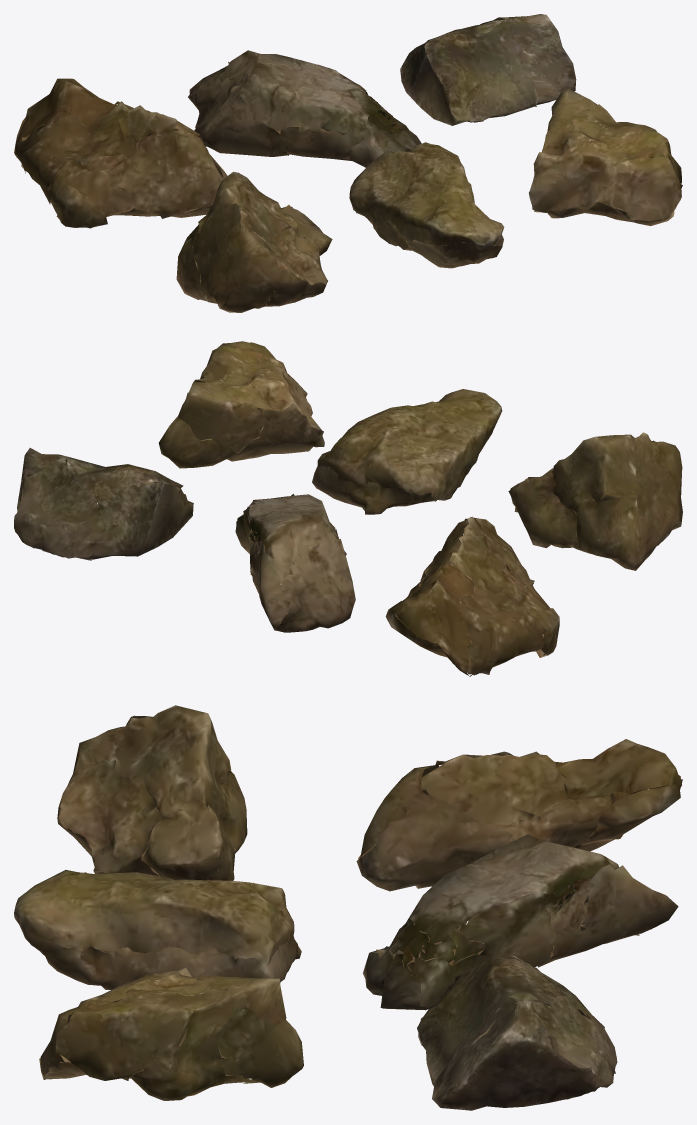
File: rock_moss_set_01.glb
3 views of the same model, one above another, from view 1: azimuth 30°, elevation 25°; view 2: azimuth 150°, elevation 25°; view 3: azimuth 270°, elevation 25° (orthographic). The views are drawn at different scales.
Visible parts, largest first — view 1: rock_moss_set_01_rock01, rock_moss_set_01_rock02, rock_moss_set_01_rock06, rock_moss_set_01_rock04, rock_moss_set_01_rock03, rock_moss_set_01_rock05; view 2: rock_moss_set_01_rock04, rock_moss_set_01_rock01, rock_moss_set_01_rock05, rock_moss_set_01_rock03, rock_moss_set_01_rock06, rock_moss_set_01_rock02; view 3: rock_moss_set_01_rock01, rock_moss_set_01_rock02, rock_moss_set_01_rock05, rock_moss_set_01_rock04, rock_moss_set_01_rock06, rock_moss_set_01_rock03.
Part boxes in pixels (x1,y1,x2,y2): rock_moss_set_01_rock01: (14, 78, 227, 228); rock_moss_set_01_rock02: (188, 50, 421, 167); rock_moss_set_01_rock06: (529, 88, 682, 225); rock_moss_set_01_rock04: (176, 171, 332, 312); rock_moss_set_01_rock03: (400, 14, 576, 125); rock_moss_set_01_rock05: (349, 142, 504, 268); rock_moss_set_01_rock04: (508, 432, 682, 570); rock_moss_set_01_rock01: (385, 516, 559, 676); rock_moss_set_01_rock05: (312, 389, 502, 514); rock_moss_set_01_rock03: (14, 448, 193, 560); rock_moss_set_01_rock06: (158, 341, 324, 468); rock_moss_set_01_rock02: (235, 494, 355, 632); rock_moss_set_01_rock01: (356, 739, 682, 891); rock_moss_set_01_rock02: (363, 834, 678, 1010); rock_moss_set_01_rock05: (14, 870, 301, 989); rock_moss_set_01_rock04: (57, 705, 247, 880); rock_moss_set_01_rock06: (39, 967, 303, 1100); rock_moss_set_01_rock03: (417, 955, 617, 1110).
Bounding box in the file's own units: 8.04 × 1.76 × 6.95.
Materials: 1 (1 with a texture image).
